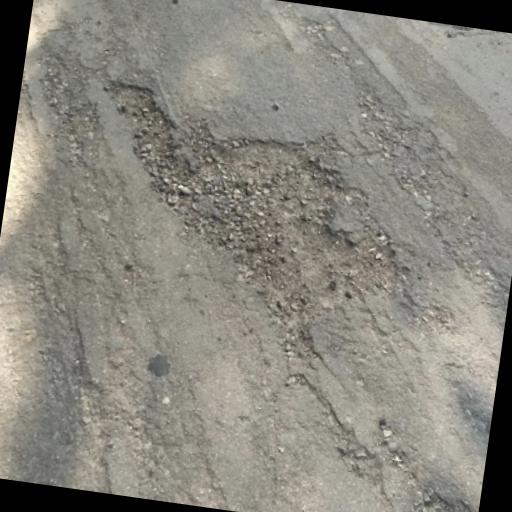pothole: (140, 106, 428, 358), (89, 77, 185, 204)
